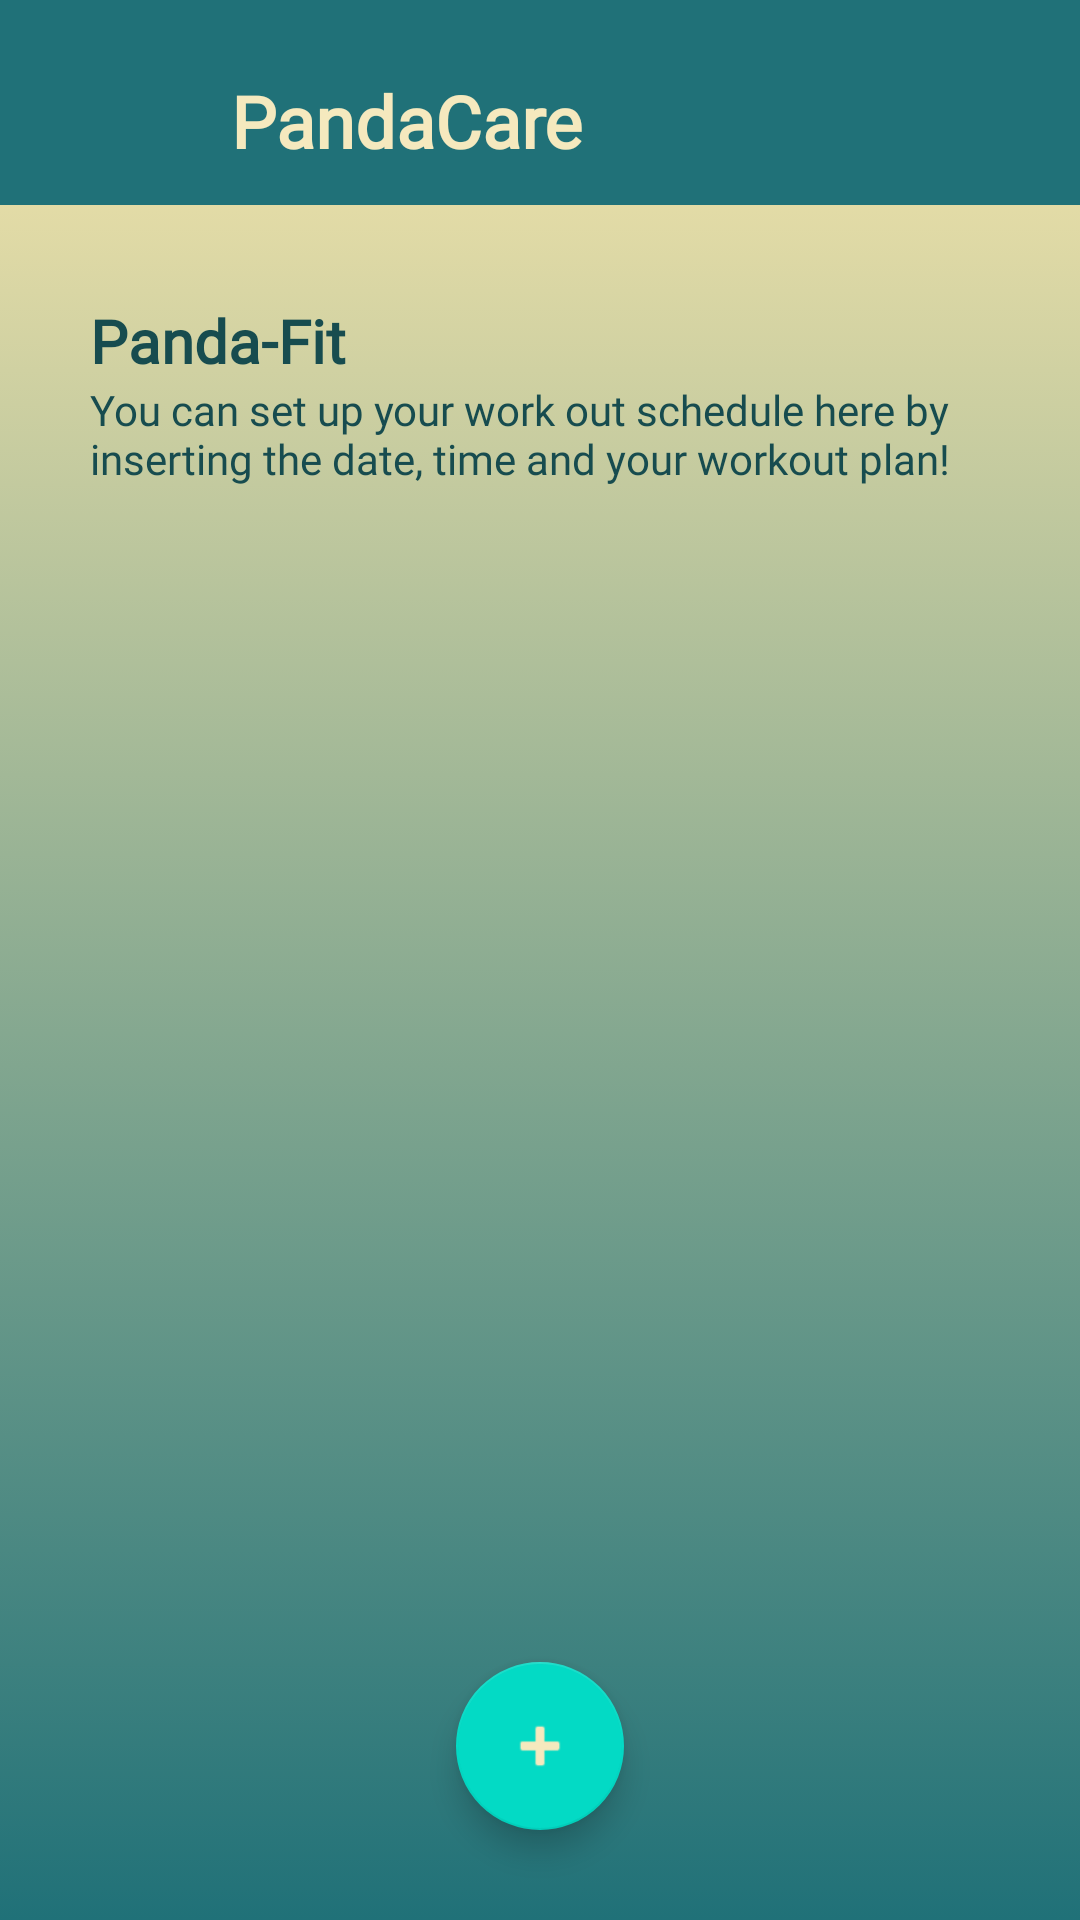

Where to tap for icons on this 1080×1920 app screen, as (x=x, y=y):
add: (x=540, y=1746)
